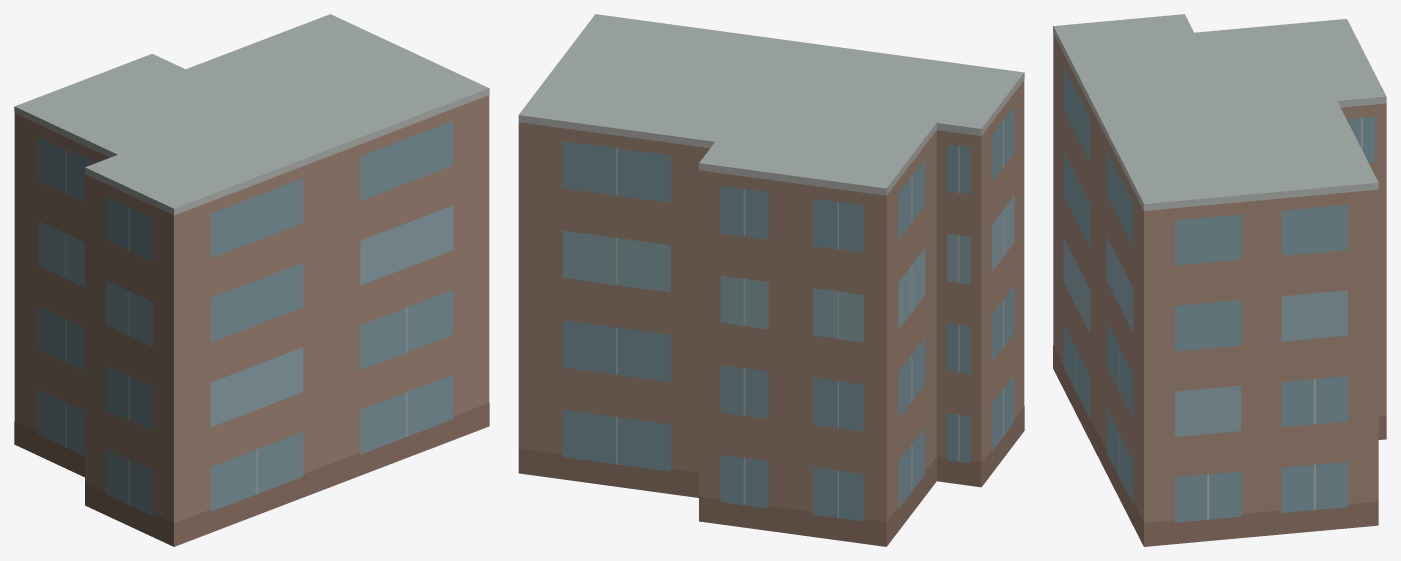
File: residential-b5147185-541f-4b9b-a92f-882c05d33e96.glb
3 renders of one model, left to right at view 1: azimuth 30°, elevation 25°; view 2: azimuth 150°, elevation 25°; view 3: azimuth 270°, elevation 25°, orthographic. The views are drawn at different scales.
Parts seen in each view (by area): view 1: residential-b5147185-541f-4b9b-a92f-882c05d33e96.tmp; view 2: residential-b5147185-541f-4b9b-a92f-882c05d33e96.tmp; view 3: residential-b5147185-541f-4b9b-a92f-882c05d33e96.tmp.
Part boxes in pixels (<box>): residential-b5147185-541f-4b9b-a92f-882c05d33e96.tmp: <box>14,14,489,546</box>; residential-b5147185-541f-4b9b-a92f-882c05d33e96.tmp: <box>518,14,1024,546</box>; residential-b5147185-541f-4b9b-a92f-882c05d33e96.tmp: <box>1053,14,1386,546</box>.
Size of the model in its own units: 14.53 by 12.2 by 10.77.
